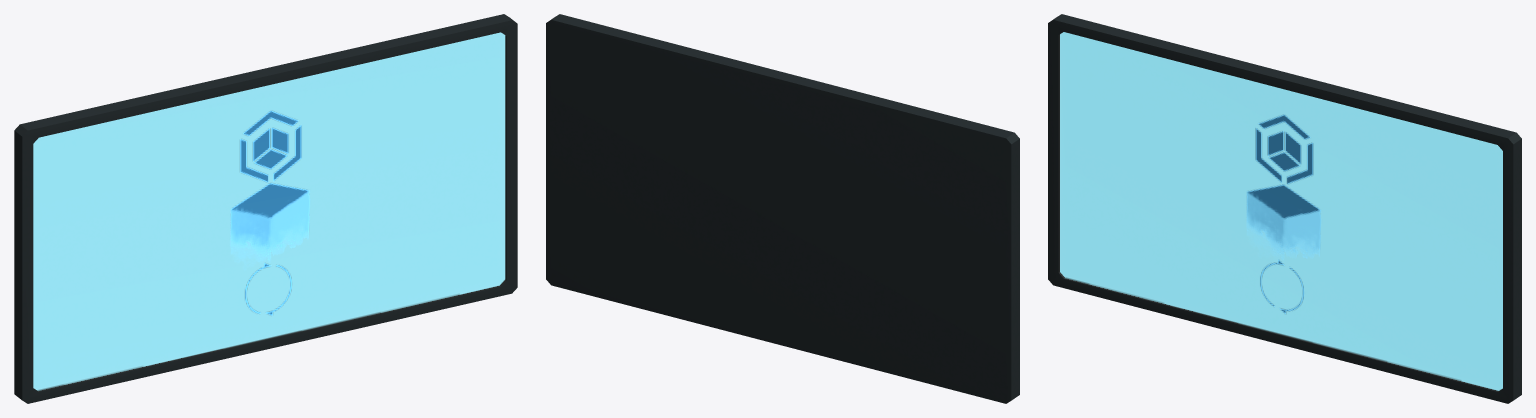
3 renders of one model, left to right at view 1: azimuth 30°, elevation 25°; view 2: azimuth 150°, elevation 25°; view 3: azimuth 330°, elevation 25°, orthographic. The views are drawn at different scales.
Visible parts, largest first — view 1: TV1; view 2: TV1; view 3: TV1.
Part boxes in pixels (x1,y1,x2,y2): TV1: (14, 14, 517, 403); TV1: (546, 14, 1019, 403); TV1: (1048, 14, 1521, 403).
Size of the model in its own units: 784 by 420 by 46.2.
